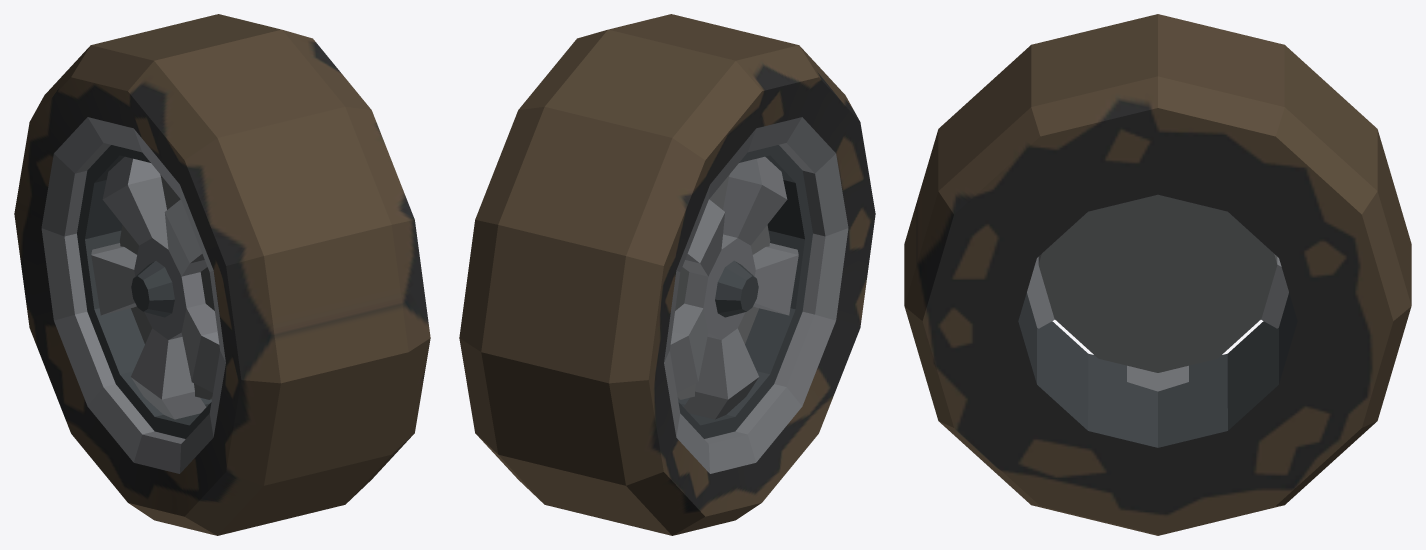
File: SM_Veh_Pickup_01_Wheel_fr.obj
The picture shows the model from 3 angles, left to right: view 1: azimuth 30°, elevation 25°; view 2: azimuth 150°, elevation 25°; view 3: azimuth 270°, elevation 25°; orthographic projection.
Visible parts, largest first — view 1: SM_Veh_Pickup_01_Wheel_fr_0; view 2: SM_Veh_Pickup_01_Wheel_fr_0; view 3: SM_Veh_Pickup_01_Wheel_fr_0.
Part boxes in pixels (left/top/right/bottom): SM_Veh_Pickup_01_Wheel_fr_0: left=14, top=14, right=430, bottom=535; SM_Veh_Pickup_01_Wheel_fr_0: left=459, top=14, right=875, bottom=535; SM_Veh_Pickup_01_Wheel_fr_0: left=904, top=14, right=1411, bottom=535.
Size of the model in its own units: 0.3708 by 0.8797 by 0.8797.
1 material, 1 textured.
